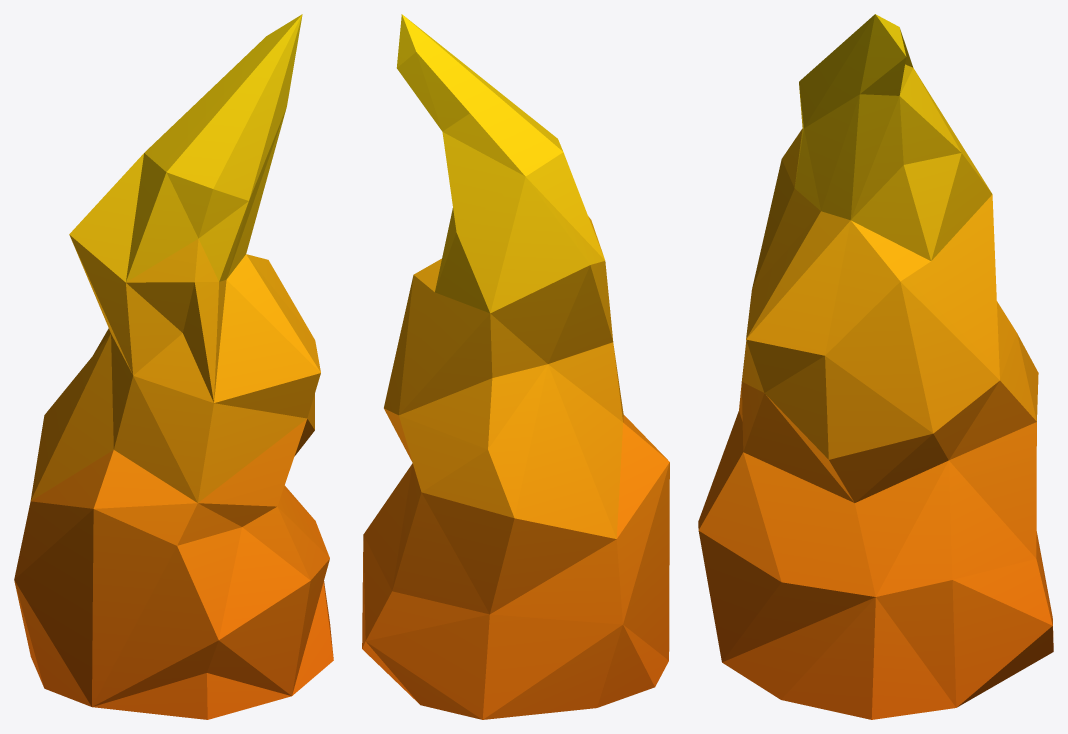
File: fire-2.glb
The picture shows the model from 3 angles, left to right: view 1: azimuth 30°, elevation 25°; view 2: azimuth 150°, elevation 25°; view 3: azimuth 270°, elevation 25°; orthographic projection. The views are drawn at different scales.
Visible parts, largest first — view 1: fire 2; view 2: fire 2; view 3: fire 2.
Part boxes in pixels (<box>): fire 2: <box>14,14,333,719</box>; fire 2: <box>362,14,669,719</box>; fire 2: <box>698,14,1053,719</box>.
Size of the model in its own units: 1.08 by 2.24 by 1.05.
Materials: 1 (1 with a texture image).
